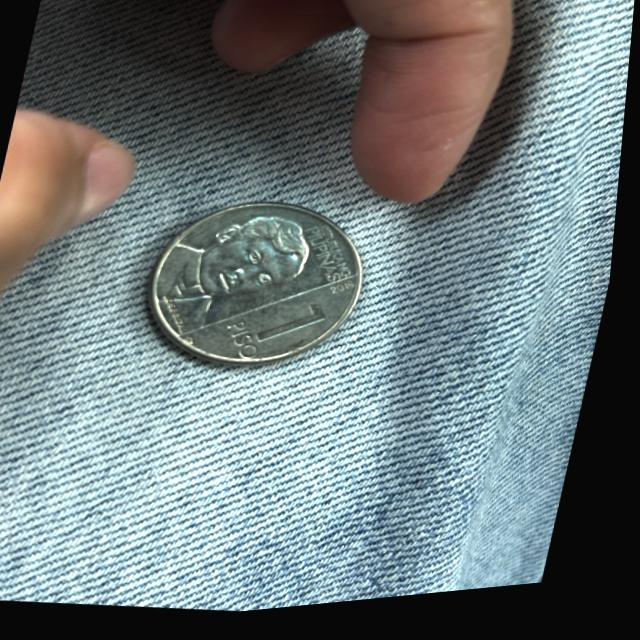1_New_Front: (228, 298, 330, 376)
